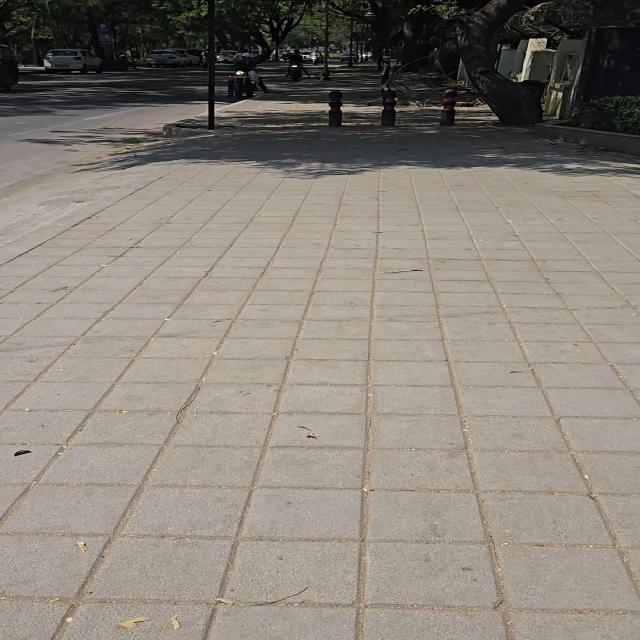obstacle: (435, 0, 639, 125), (440, 0, 543, 125), (259, 0, 317, 56), (208, 0, 215, 129), (440, 90, 456, 126), (322, 0, 329, 80), (329, 90, 342, 126), (382, 90, 395, 126), (348, 2, 353, 66)
